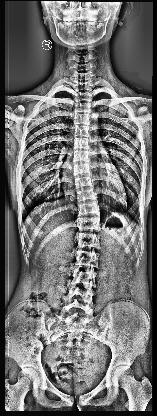Vertebrae: (61, 290, 96, 310), (63, 270, 101, 288), (74, 233, 104, 250), (72, 250, 102, 266), (77, 217, 103, 231), (76, 202, 104, 214), (72, 90, 96, 102), (70, 150, 92, 162), (70, 138, 92, 150), (72, 101, 94, 112), (72, 164, 92, 176), (74, 190, 98, 200), (72, 112, 92, 124), (72, 80, 96, 90), (72, 126, 92, 136), (73, 178, 95, 186)
